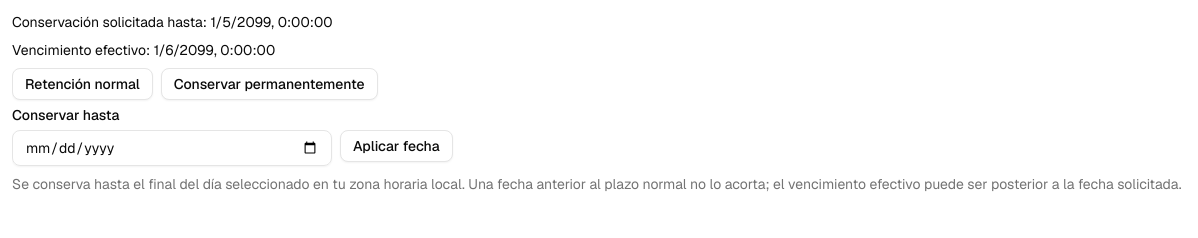
Test: rejects impossible and past dates strictly
This screenshot has width=1198, height=238.
Click the button "Aplicar fecha" at (396, 146), box x1=340 y1=130 x2=453 y2=162
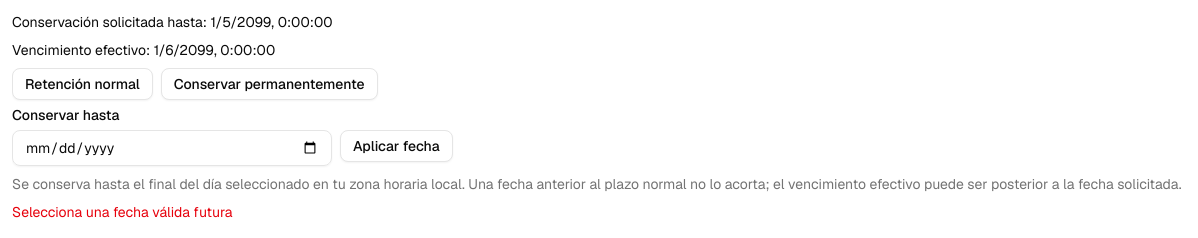
Result: the message reads "Selecciona una fecha válida futura" at x1=12 y1=203 x2=232 y2=221
